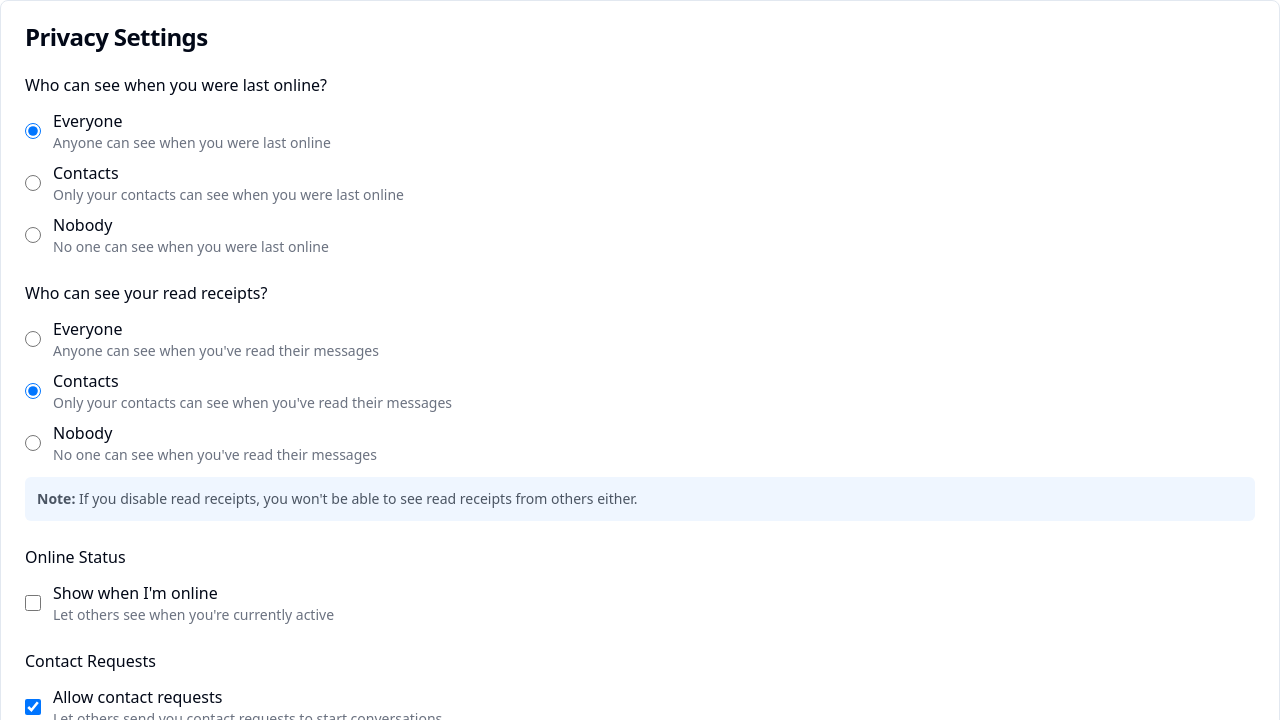
it: PrivacySettings › handles form submission errors
The image size is (1280, 720).
Note: Make a change
What coordinates should you click on to do the following:
click the radio button showing "nobody"
I would click on:
 (33, 235)
Its box is [25,227,41,243].
(page scrolled)
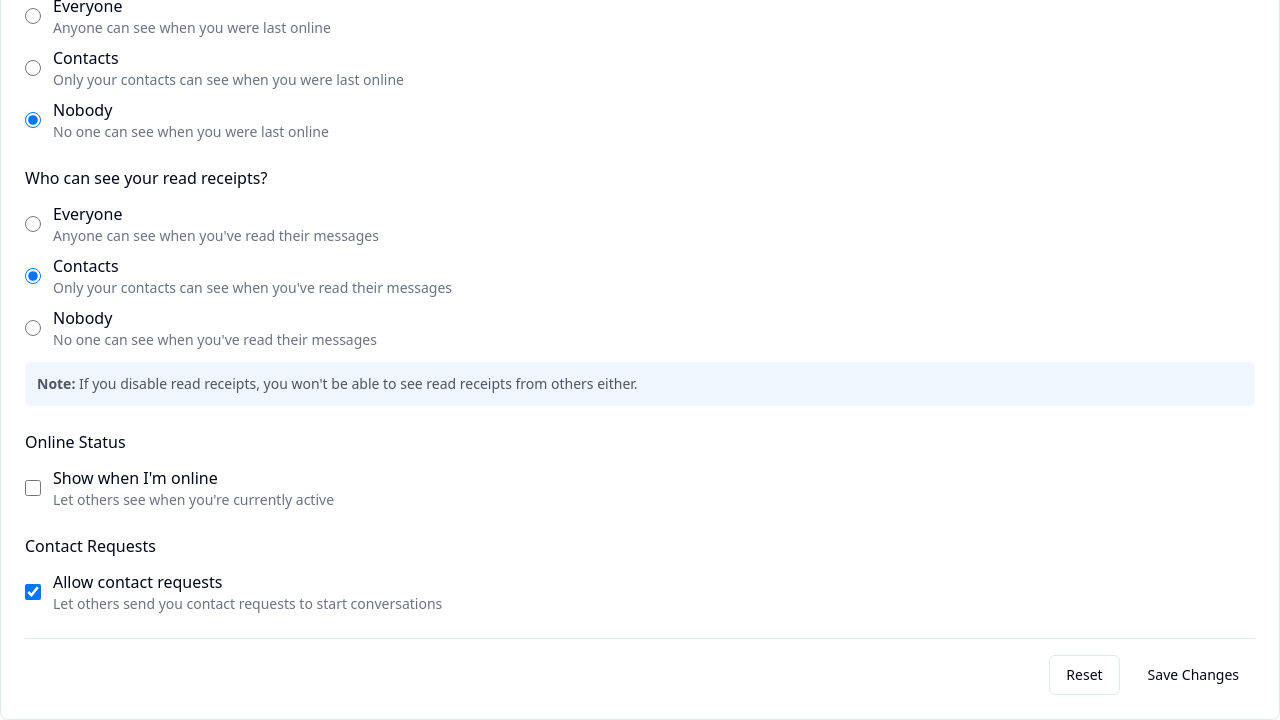
What coordinates should you click on to do the following:
click the button "Save Changes"
I would click on:
 (1193, 675)
Its box is [1132,655,1255,695].
(page scrolled)
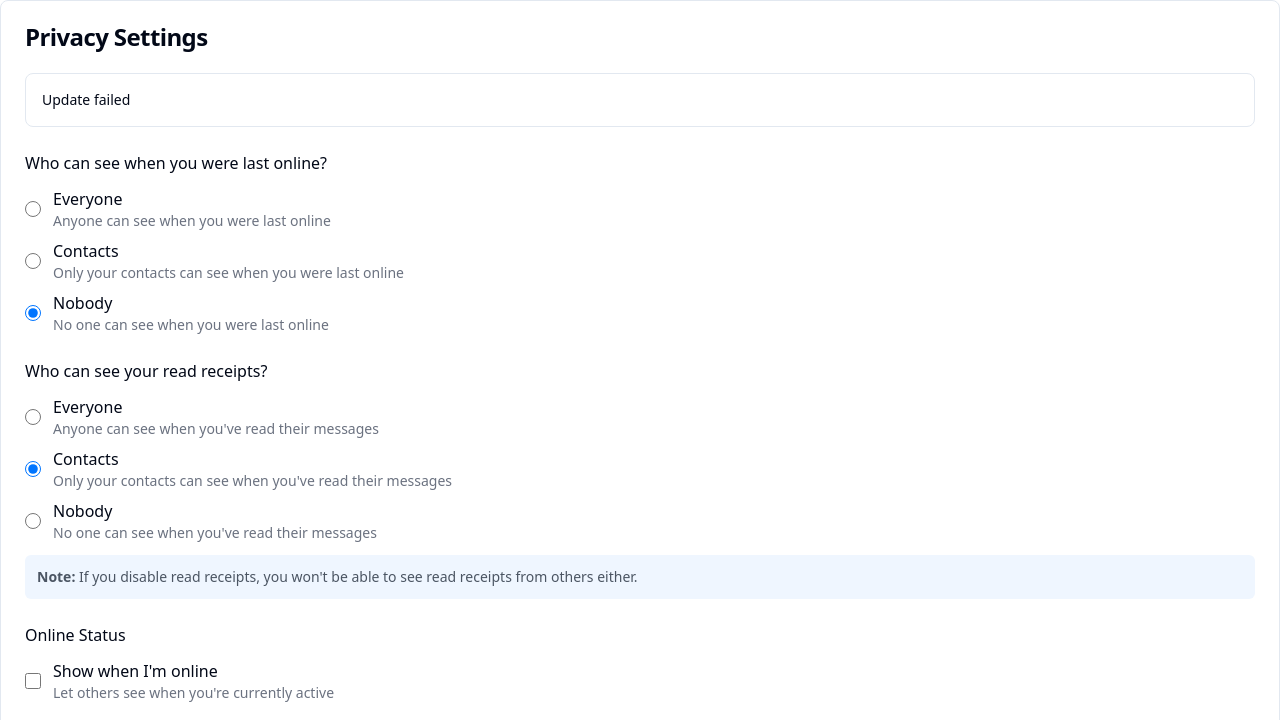
Result: the text "Update failed" is shown at [42,90,130,109]
